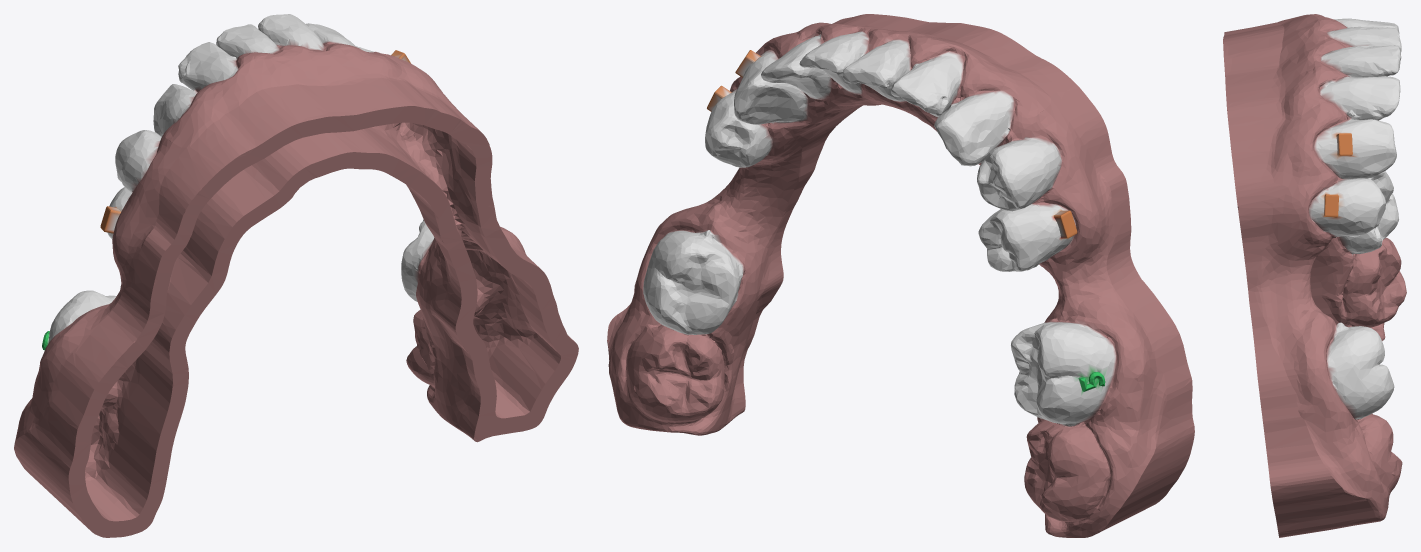
The model's file is lower-model-5.glb.
The picture shows the model from 3 angles, left to right: view 1: azimuth 30°, elevation 25°; view 2: azimuth 150°, elevation 25°; view 3: azimuth 270°, elevation 25°; orthographic projection. The views are drawn at different scales.
Parts seen in each view (by area): view 1: 5 (1); view 2: 5 (1); view 3: 5 (1).
Boxes of the visible parts, bbox=[...] form: 5 (1): bbox=[14, 14, 578, 537]; 5 (1): bbox=[607, 14, 1194, 537]; 5 (1): bbox=[1223, 14, 1406, 537].
Size of the model in its own units: 64.22 by 50.16 by 20.71.
